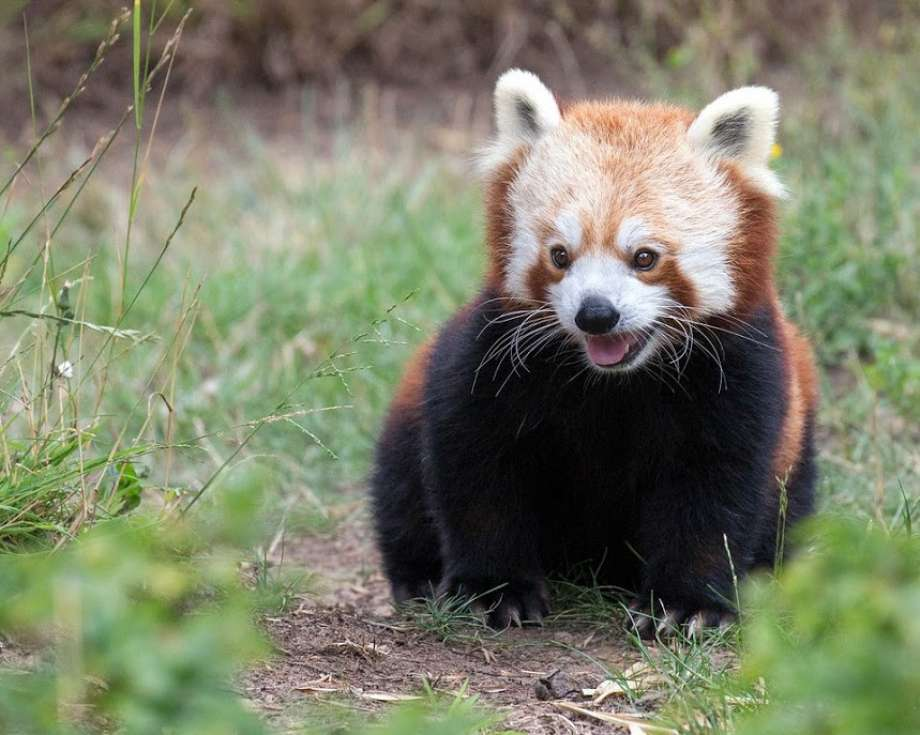red_panda: (377, 60, 828, 616)
